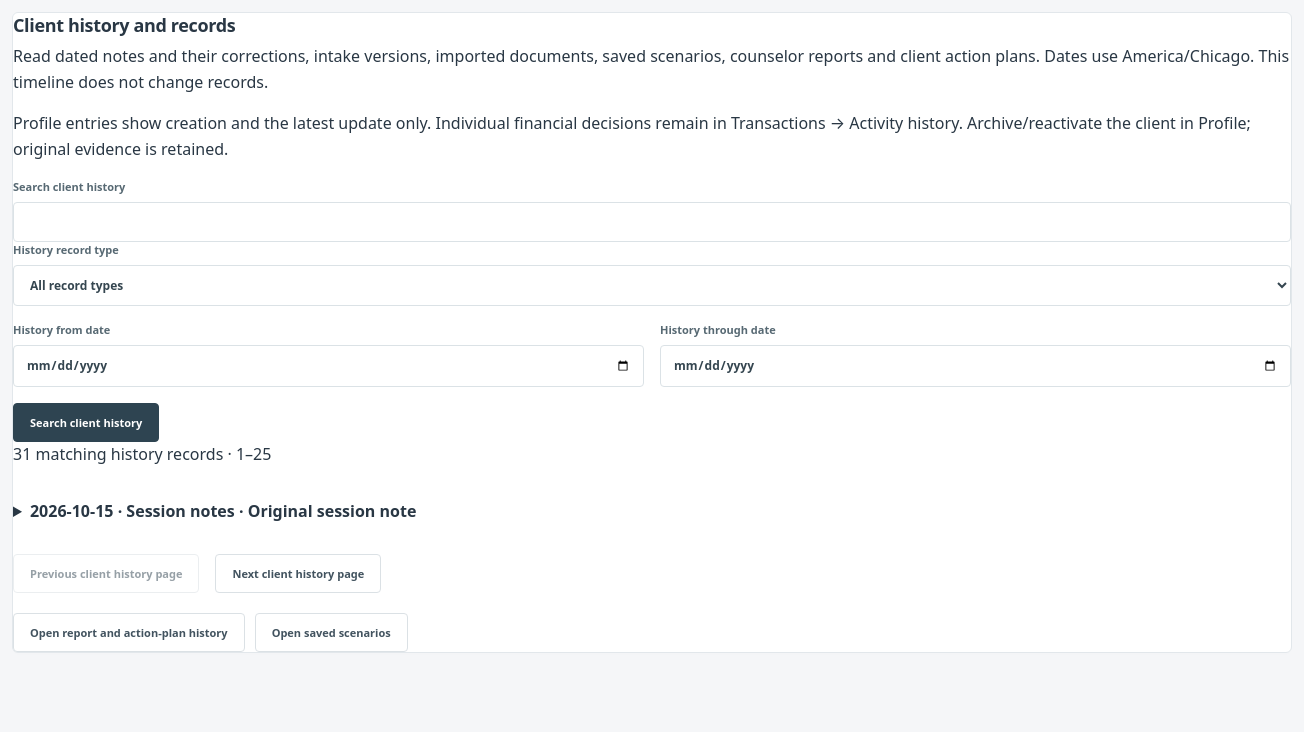
Test case: clears stale results on errors and allows an explicit first-page search
The image size is (1304, 732).
Expected: the text "31 matching history records · 1–25" is shown, [13,443,271,465]
Click the button "Next client history page" at (298, 573), box [216,554,381,593]
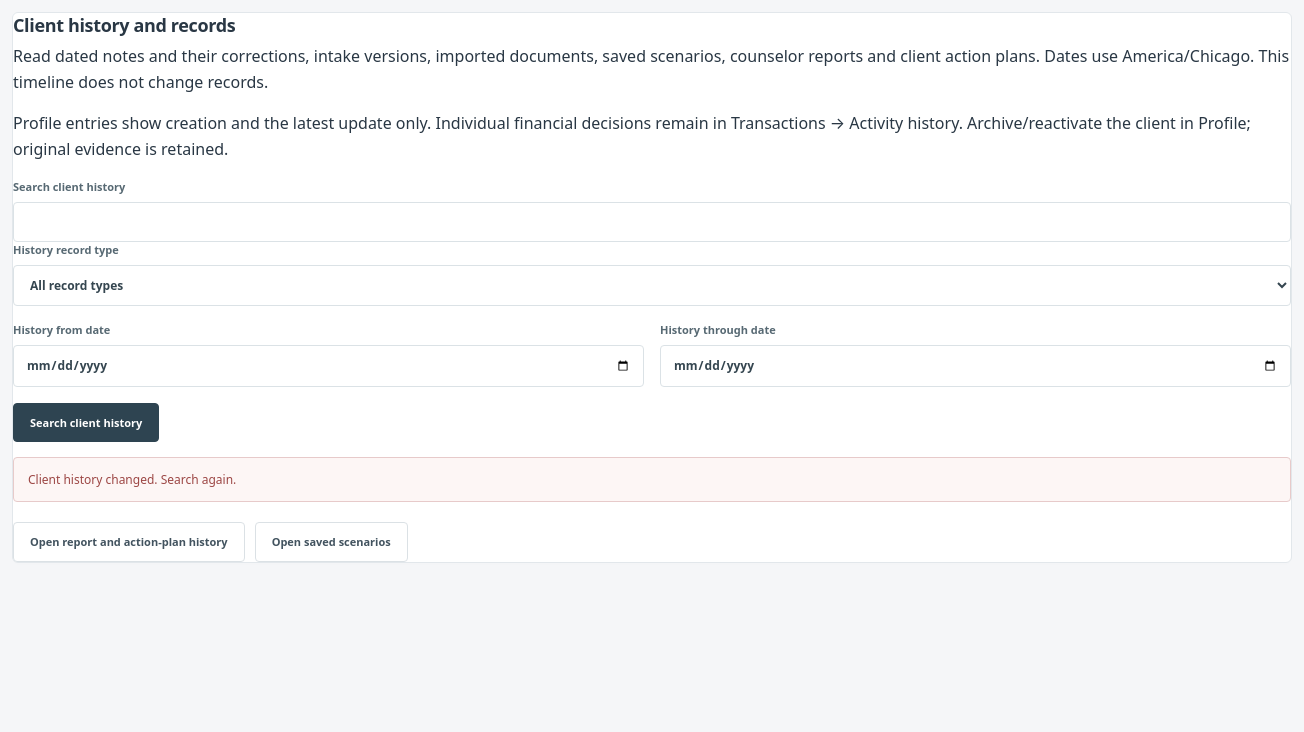
Result: the message "Client history changed. Search again." is shown at [13,457,1291,502]
Result: the text "31 matching" is gone
Click the button "Search client history" at (86, 422), box [13,403,159,442]
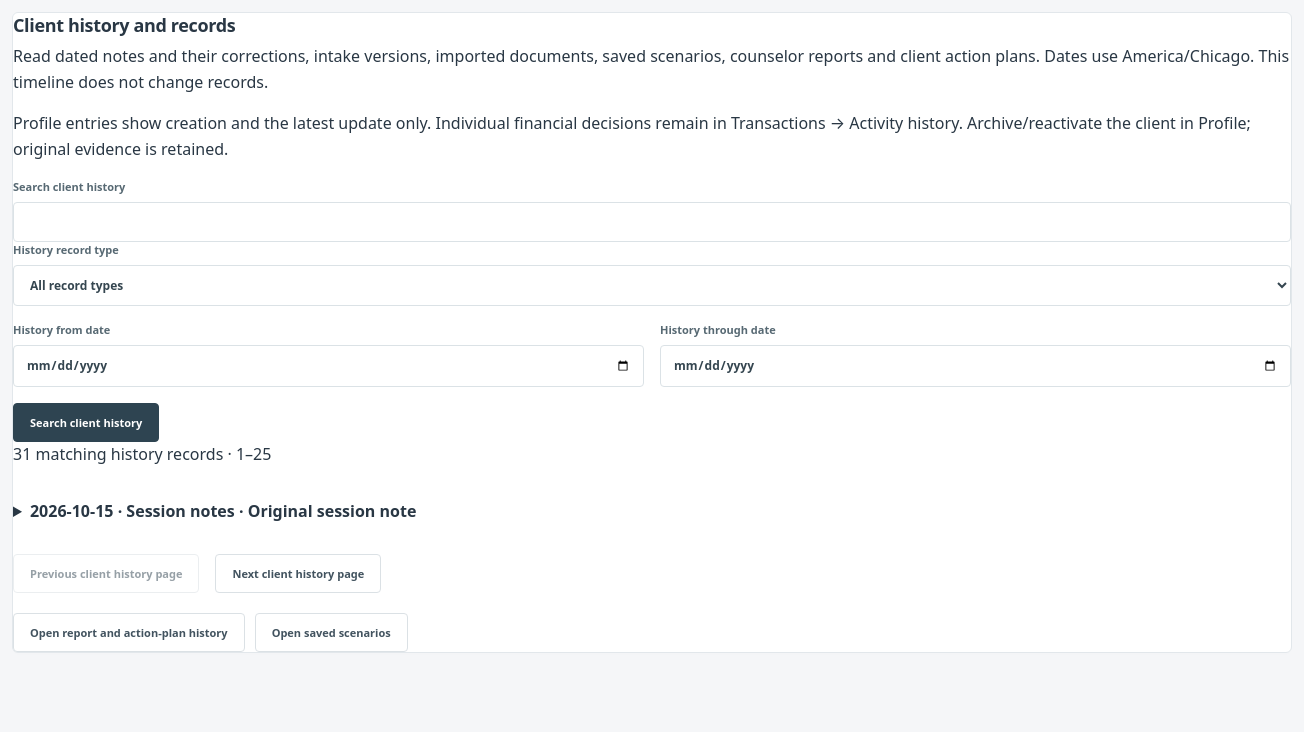
Result: the text "31 matching history records · 1–25" is shown at [13,443,271,465]
